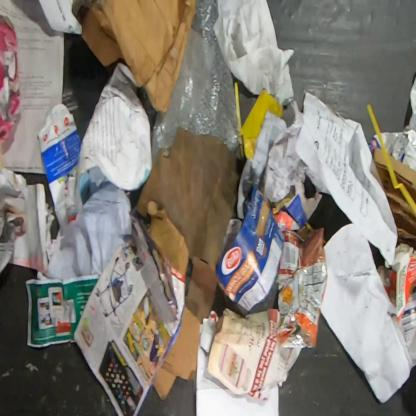cardboard: (214, 183, 285, 317), (153, 305, 201, 400), (373, 146, 416, 252), (147, 200, 190, 278), (0, 13, 23, 146), (376, 251, 415, 324), (389, 154, 416, 205)
soft_plastic: (151, 0, 243, 168), (276, 227, 328, 349)
